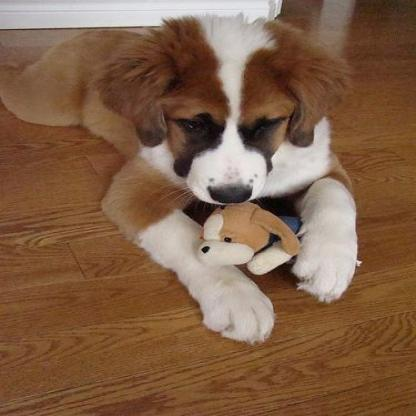Saint_Bernard: (0, 8, 362, 346)
